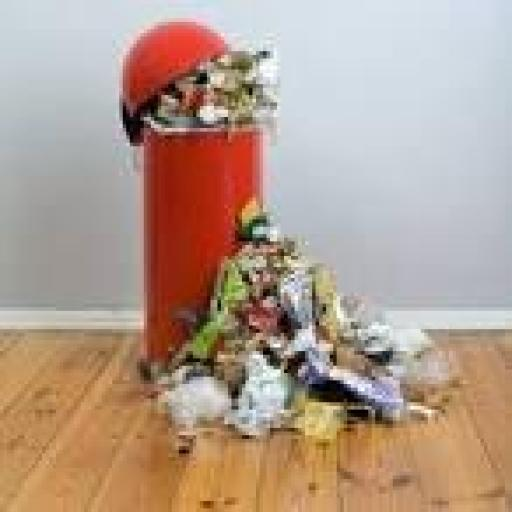poubelle_pleine: (95, 11, 320, 414)
